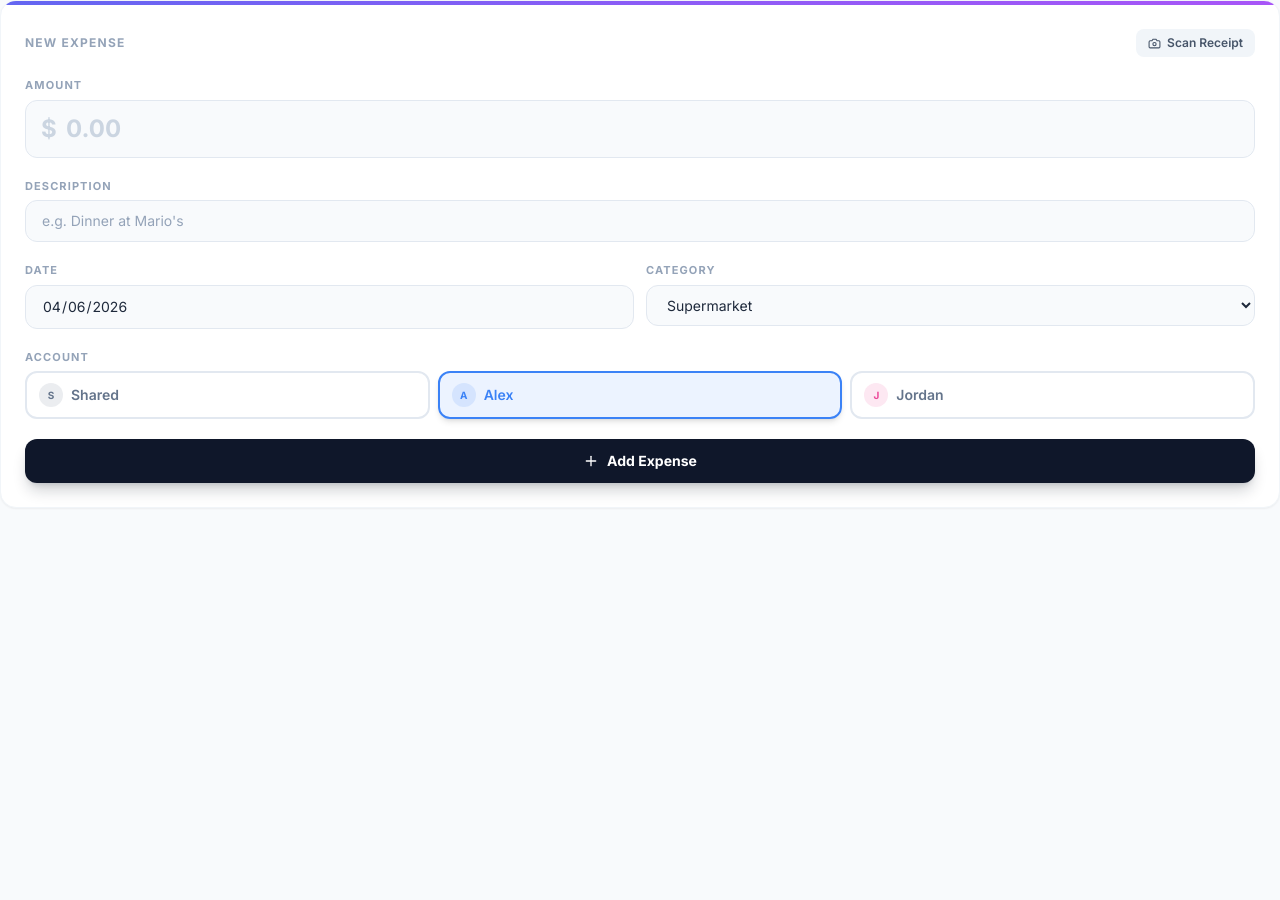
SingleEntryForm › shows trip selection when travel category is selected
Select travel category
Select "Travel & Trips" in the dropdown: (950,305) [646,284,1255,326]
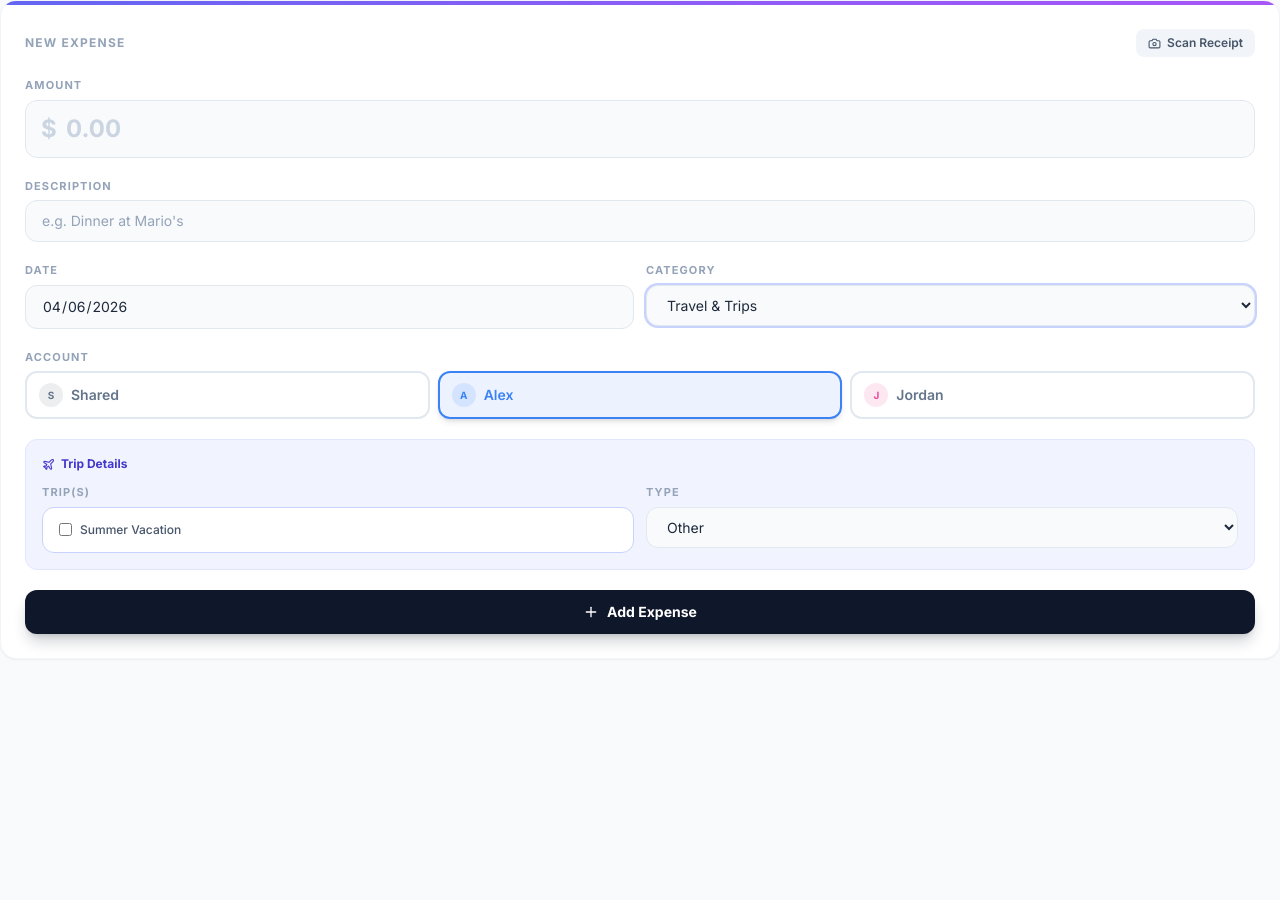
Expected: the text "Trip Details" is shown, [42,456,127,471]
Expected: the text "Summer Vacation" is shown, [59,522,181,536]
